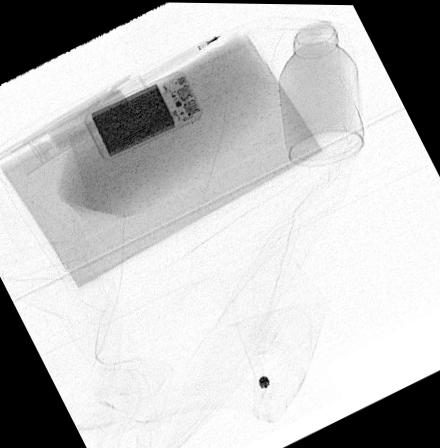Powerbank: (82, 69, 204, 161)
